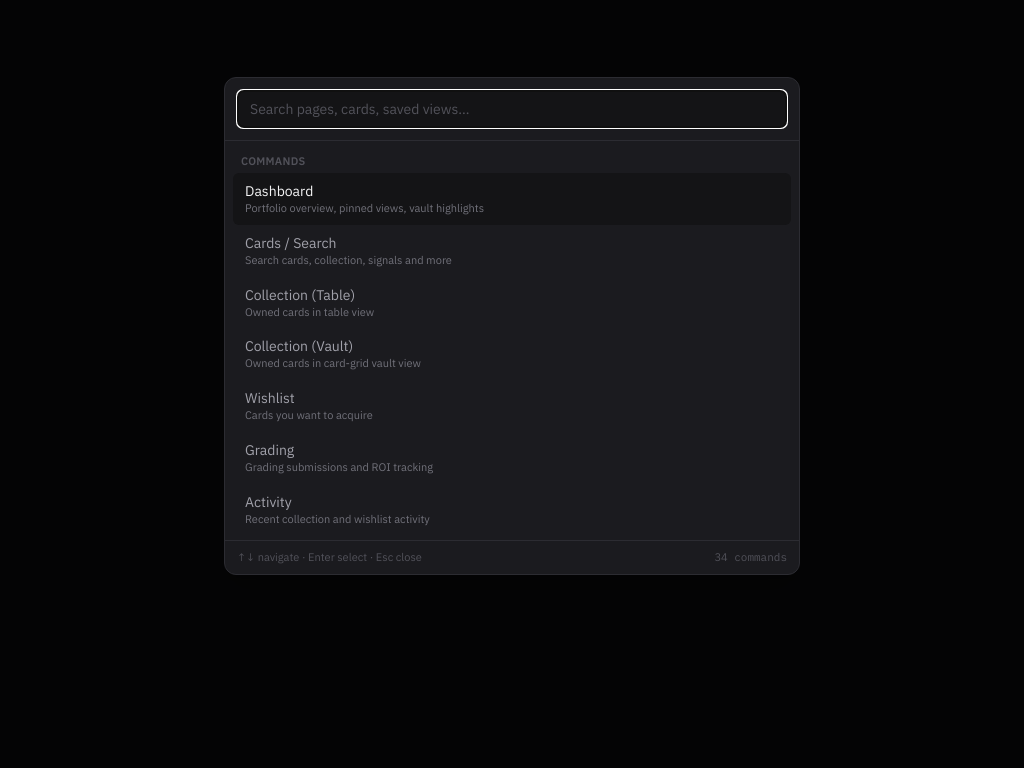
Test: CommandPalette › shows the admin badge for admin commands
In the field with placeholder "Search pages, cards, saved views…": (512, 109) [237, 90, 787, 128], type "Catalog Ops"
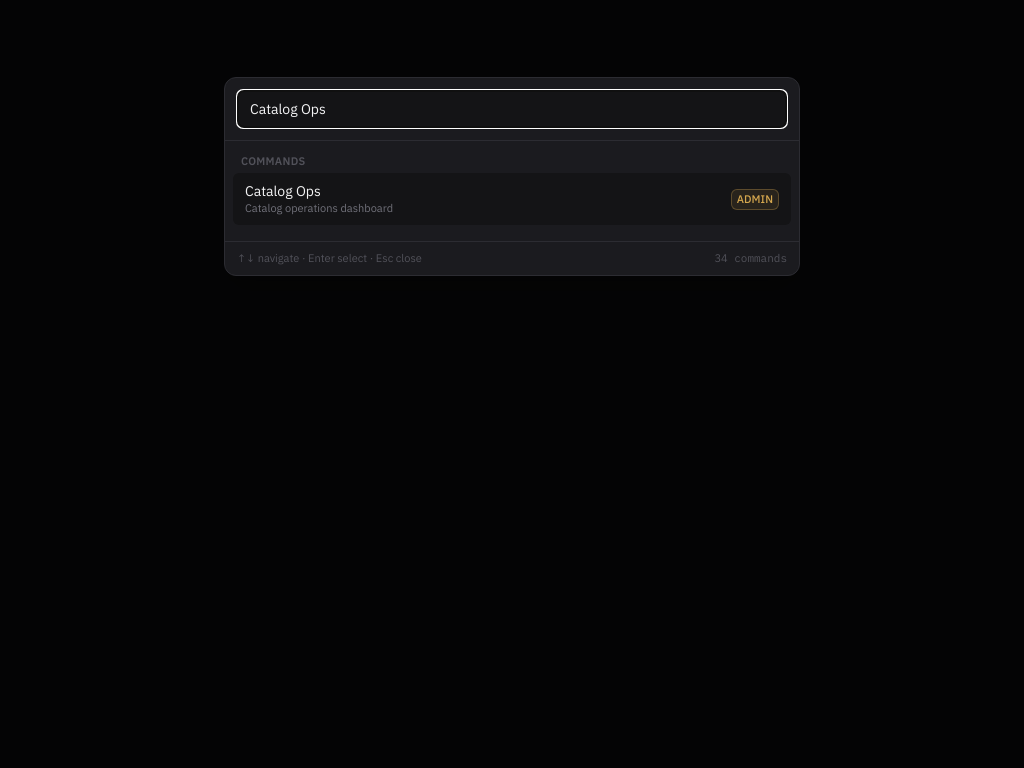
Result: the text "Catalog Ops" is shown at [245, 182, 321, 200]
Result: the text "ADMIN" is shown at [731, 188, 779, 210]
